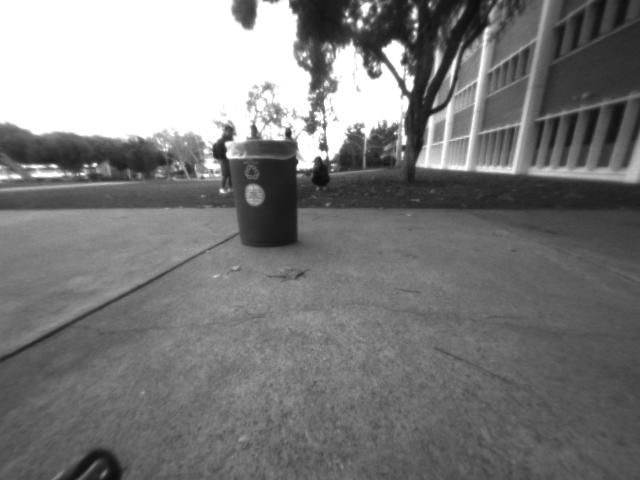trashcan: (218, 136, 310, 250)
